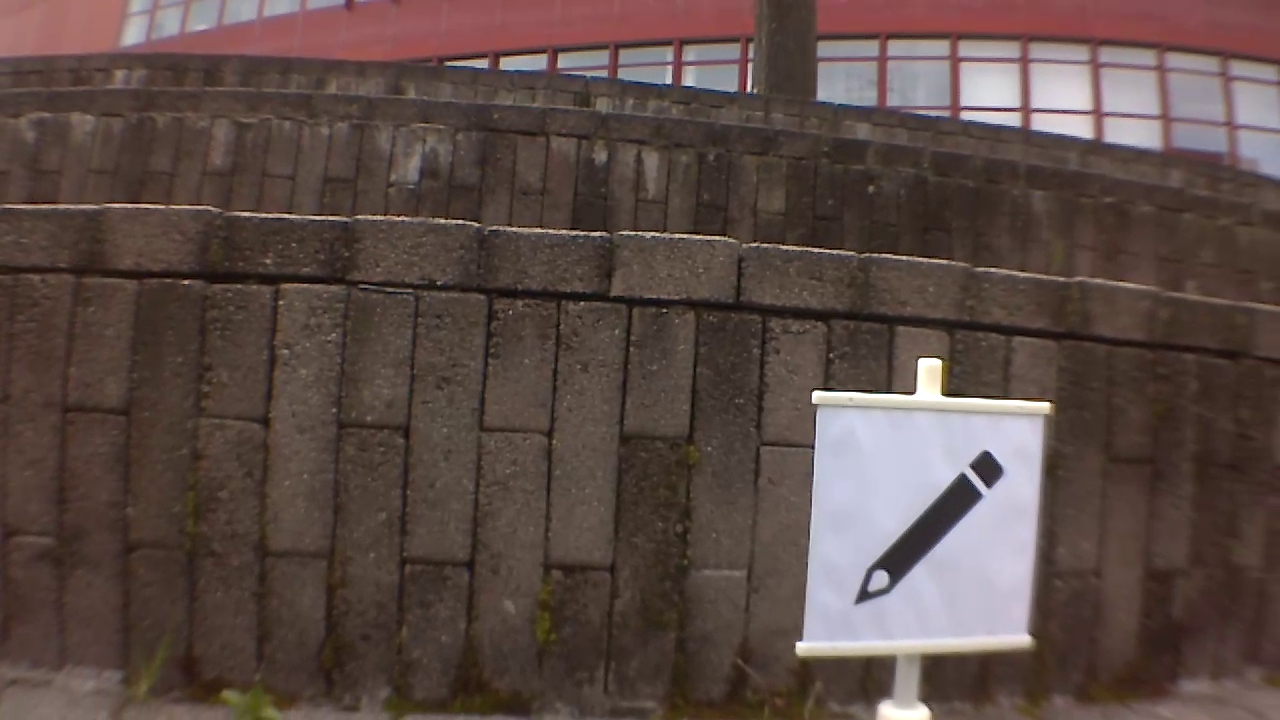pencil: (849, 441, 1017, 610)
